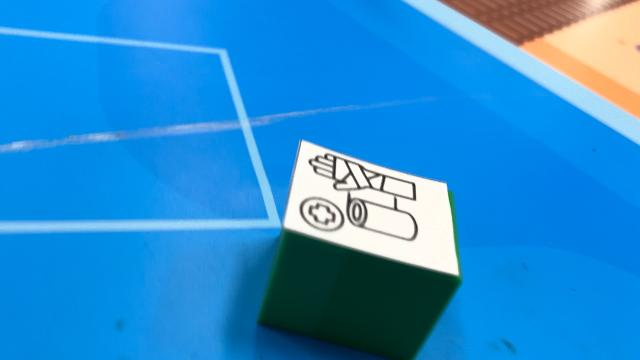bandage: (253, 136, 462, 360)
